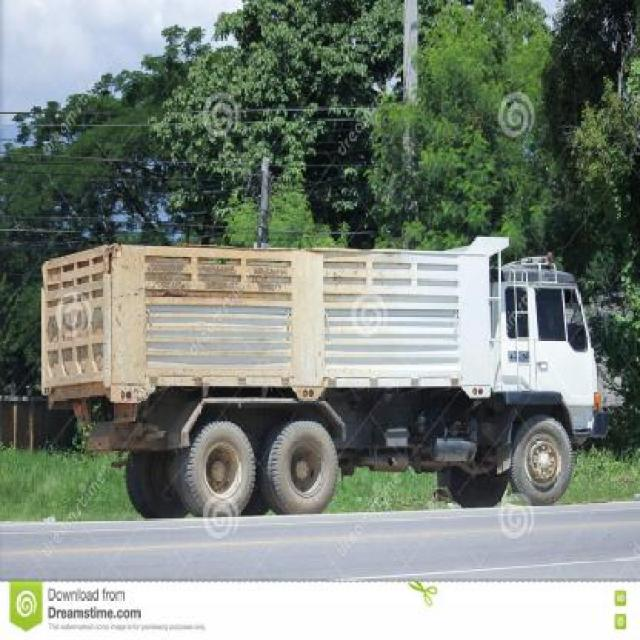truck: (41, 234, 599, 519)
